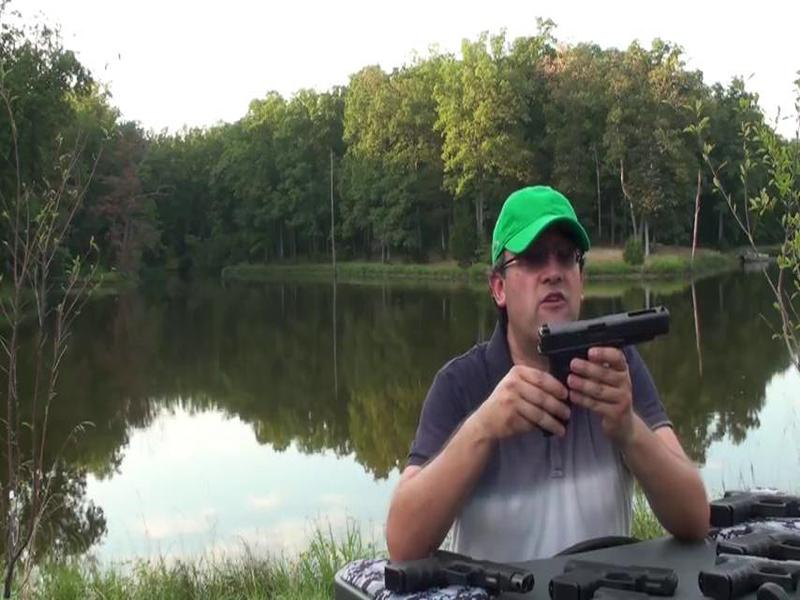Pistola: (533, 289, 681, 428)
